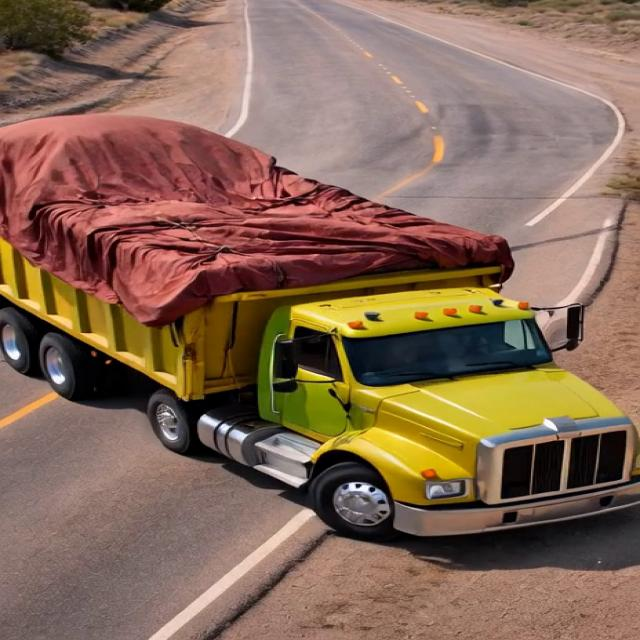trailer: (9, 127, 564, 271)
truck: (1, 112, 632, 544)
